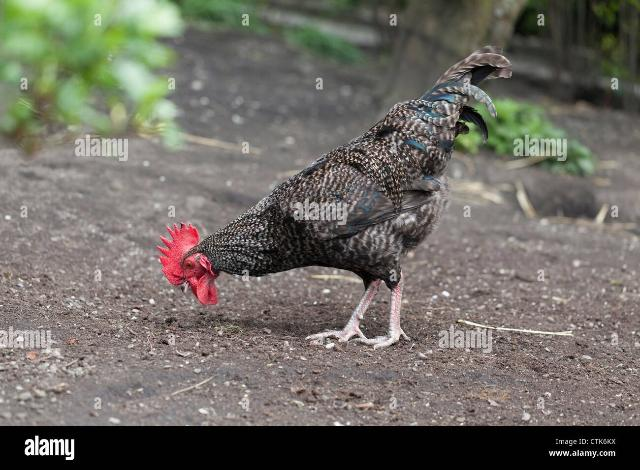Chicken: (155, 45, 512, 351)
